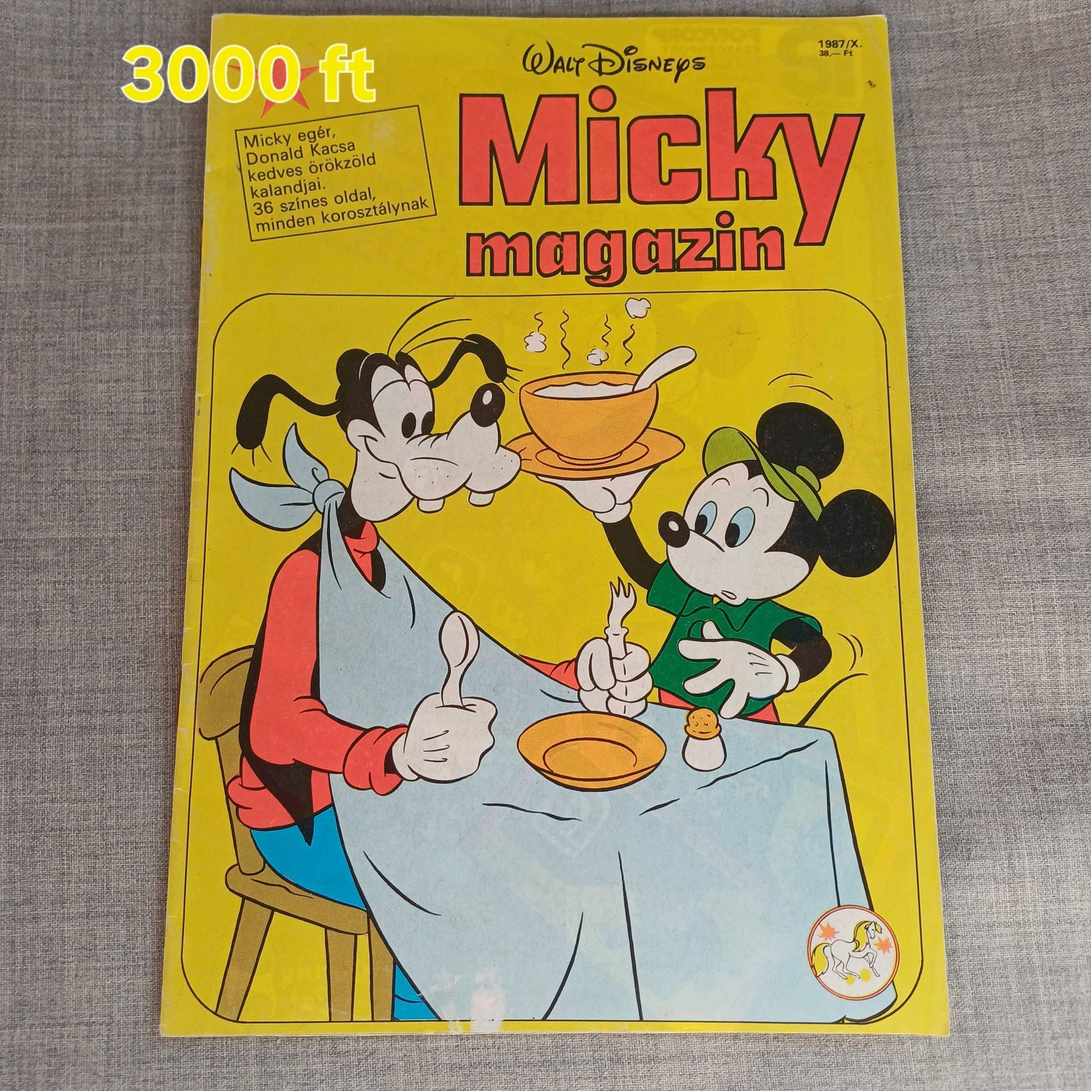comic: (162, 15, 947, 1033)
